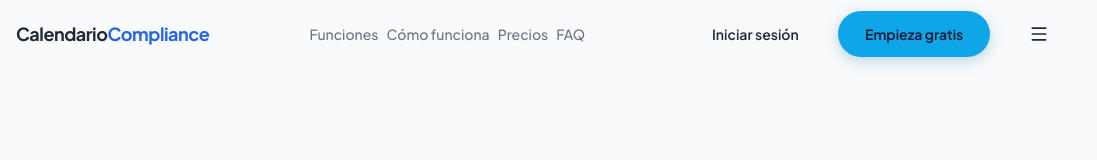
Navbar Component › abre y cierra menú móvil al hacer click en hamburger
Click the button named "abrir menú" at (1039, 34), box top-left (1002, 11), bottom-right (1076, 57)
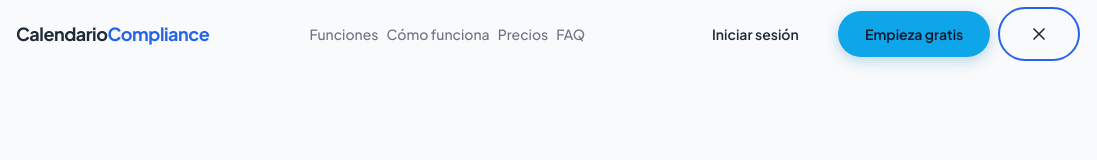
Expected: the button named "abrir menú" is expanded
Click the button named "abrir menú" at (1039, 34), box top-left (1002, 11), bottom-right (1076, 57)
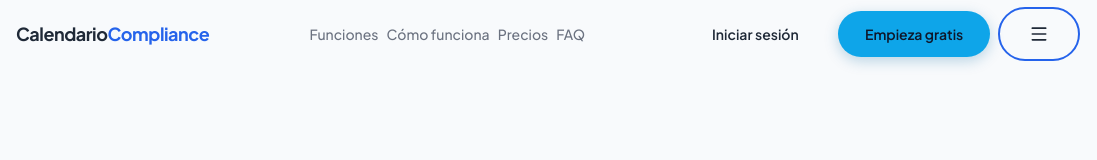
Expected: the button named "abrir menú" is collapsed, top-left (1002, 11), bottom-right (1076, 57)
